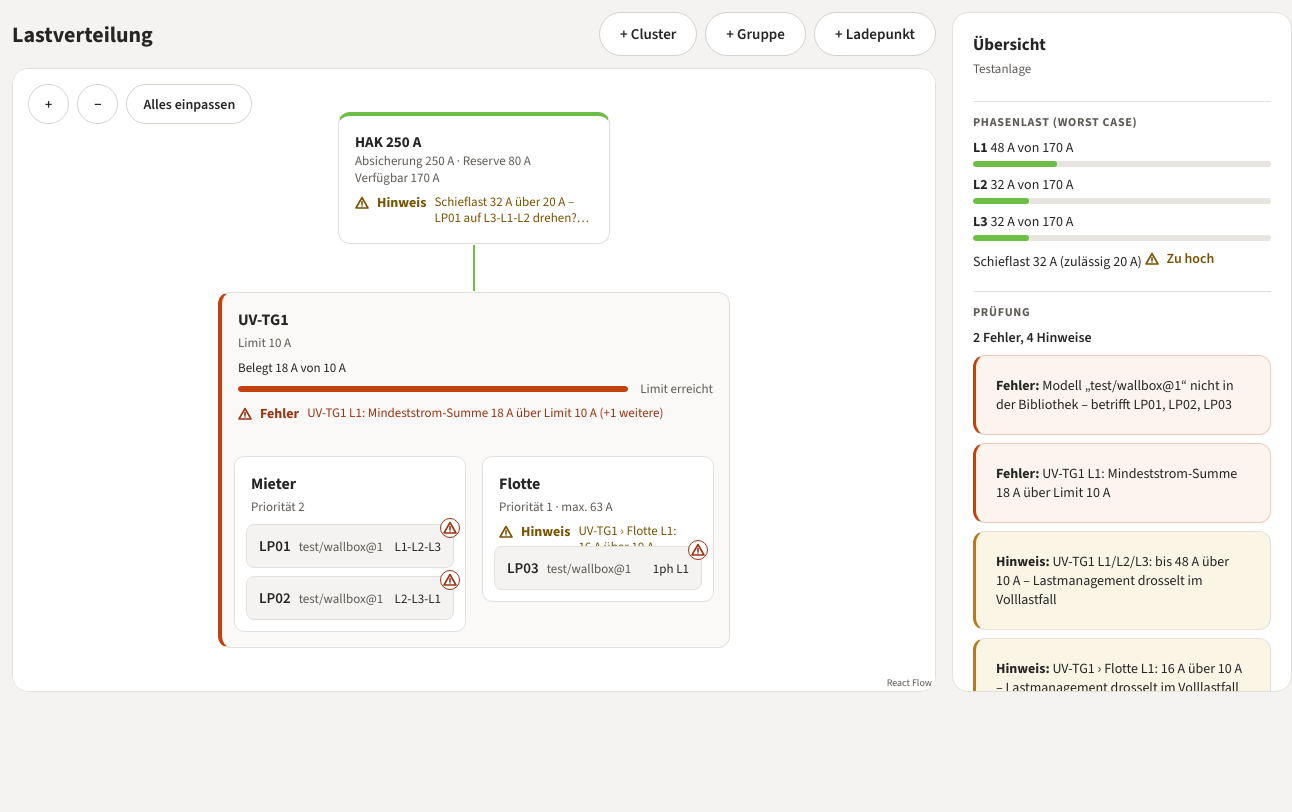
Test: Prüfung: Sprung und Auto-Fix › Klick auf eine Meldung wählt das Element aus und fokussiert es
Click the button "Fehler: UV-TG1 L1: Mindeststrom-Summe 18 A über Limit 10 A". click: (1123,482)
box: [996,460,1250,506]
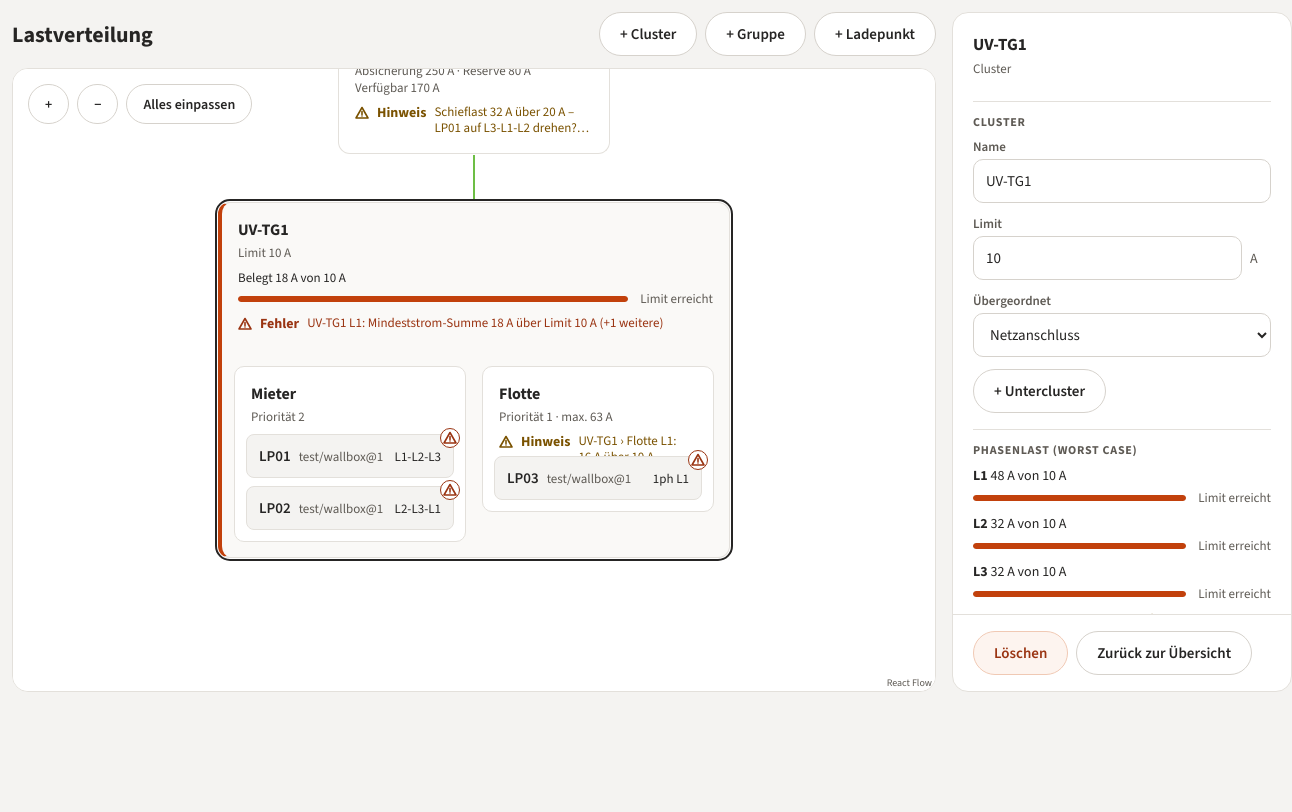
Expected: the text "Mindeststrom-Summe 18 A über Limit 10 A" is shown, [307,314,597,331]
Now the 1st heading "UV-TG1" is shown, box [973,33,1027,56]
